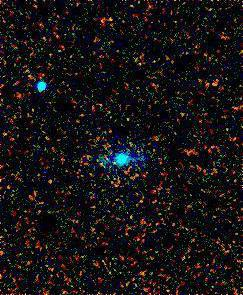star: (87, 149, 117, 179)
